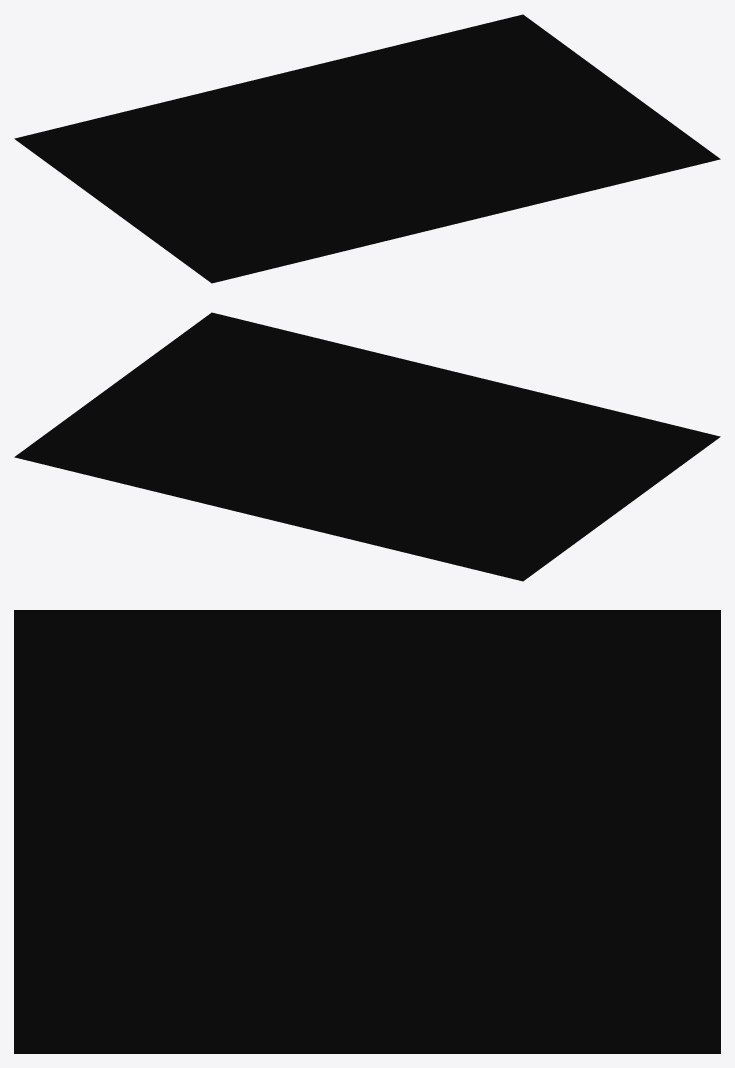
The model's file is PPX_MOUNT8.fbx.
3 views of the same model, one above another, from view 1: azimuth 30°, elevation 25°; view 2: azimuth 150°, elevation 25°; view 3: azimuth 270°, elevation 25° (orthographic). The views are drawn at different scales.
Parts seen in each view (by area): view 1: remote mountain.png, remote mountain.png_2; view 2: remote mountain.png, remote mountain.png_2; view 3: remote mountain.png, remote mountain.png_2.
Part boxes in pixels (x1,y1,x2,y2): remote mountain.png: (14,14,637,222); remote mountain.png_2: (109,75,720,283); remote mountain.png: (14,373,635,581); remote mountain.png_2: (114,312,720,520); remote mountain.png: (310,610,720,1053); remote mountain.png_2: (14,610,424,1053).
Size of the model in its own units: 670 by 451 by 0.
Materials: 1 (1 with a texture image).
